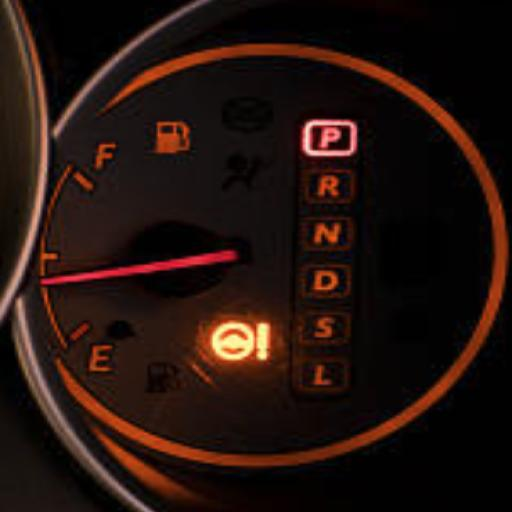empty: (84, 339, 120, 379)
fuel_icon: (88, 135, 123, 179), (155, 119, 188, 158)
guage_area: (18, 36, 504, 468)
needle_center: (111, 220, 223, 301)
needle_tip: (38, 266, 97, 294)
